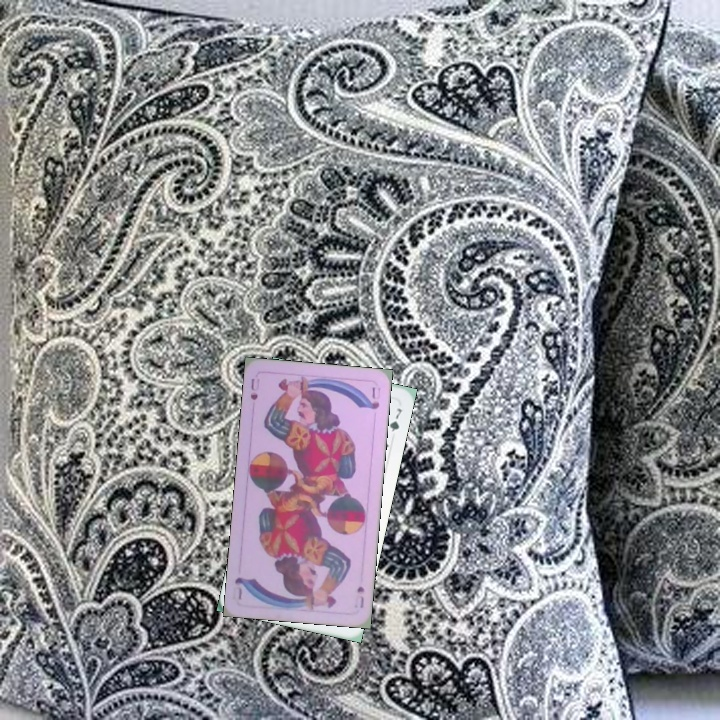SU: (247, 374, 262, 403), (353, 582, 367, 610)
